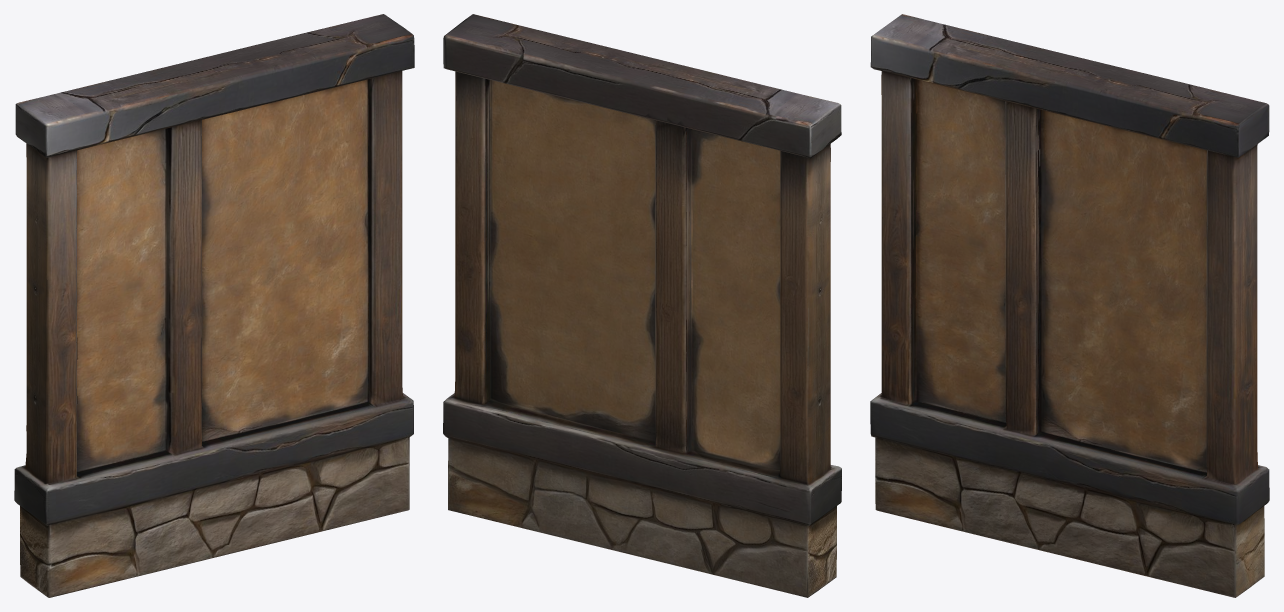
Rendered from wall.glb.
3 views of the same model, side by side, from view 1: azimuth 30°, elevation 25°; view 2: azimuth 150°, elevation 25°; view 3: azimuth 330°, elevation 25° (orthographic).
Bounding box in the file's own units: 1.62 × 2 × 0.2441.
Materials: 1 (1 with a texture image).
